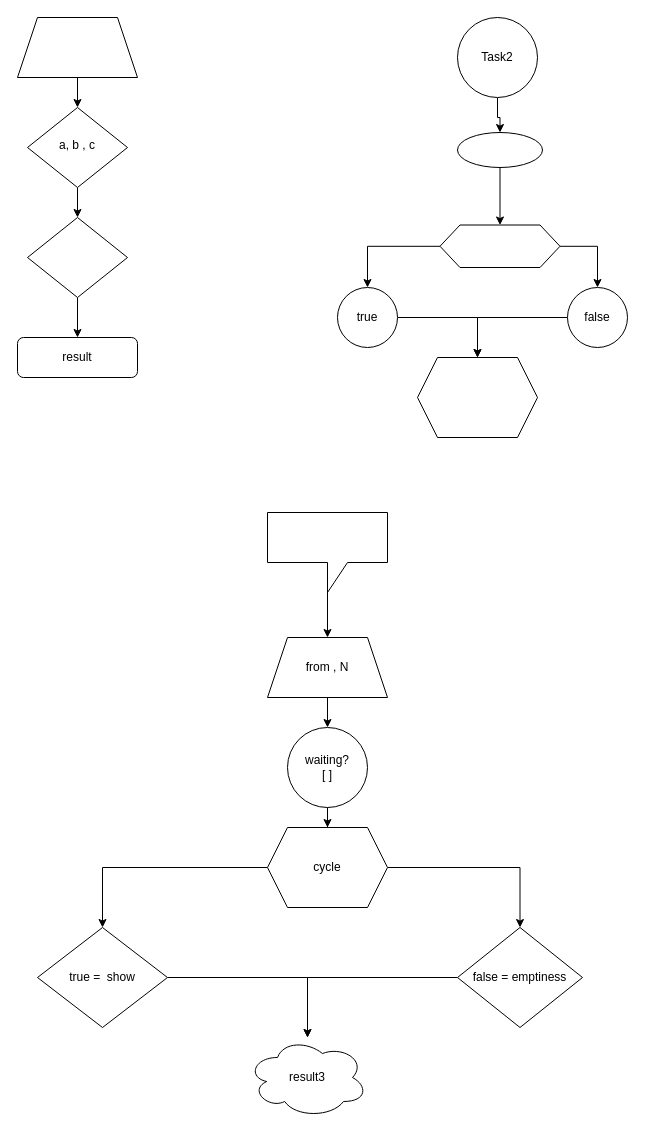
The diagram is 645 pixels wide and 1135 high, and some of its shapes have lost their labels. The shapes that lost their labels are listed below. From the top down, each one's box as (x1, y1, x2, y2) in pixels, then its label:
(16, 16, 138, 78): Start Task1
(456, 132, 542, 168): a , b
(26, 216, 128, 298): a + b + c
(439, 224, 560, 268): === cube a || cube b
(416, 356, 538, 438): result2
(266, 512, 388, 592): Task3
